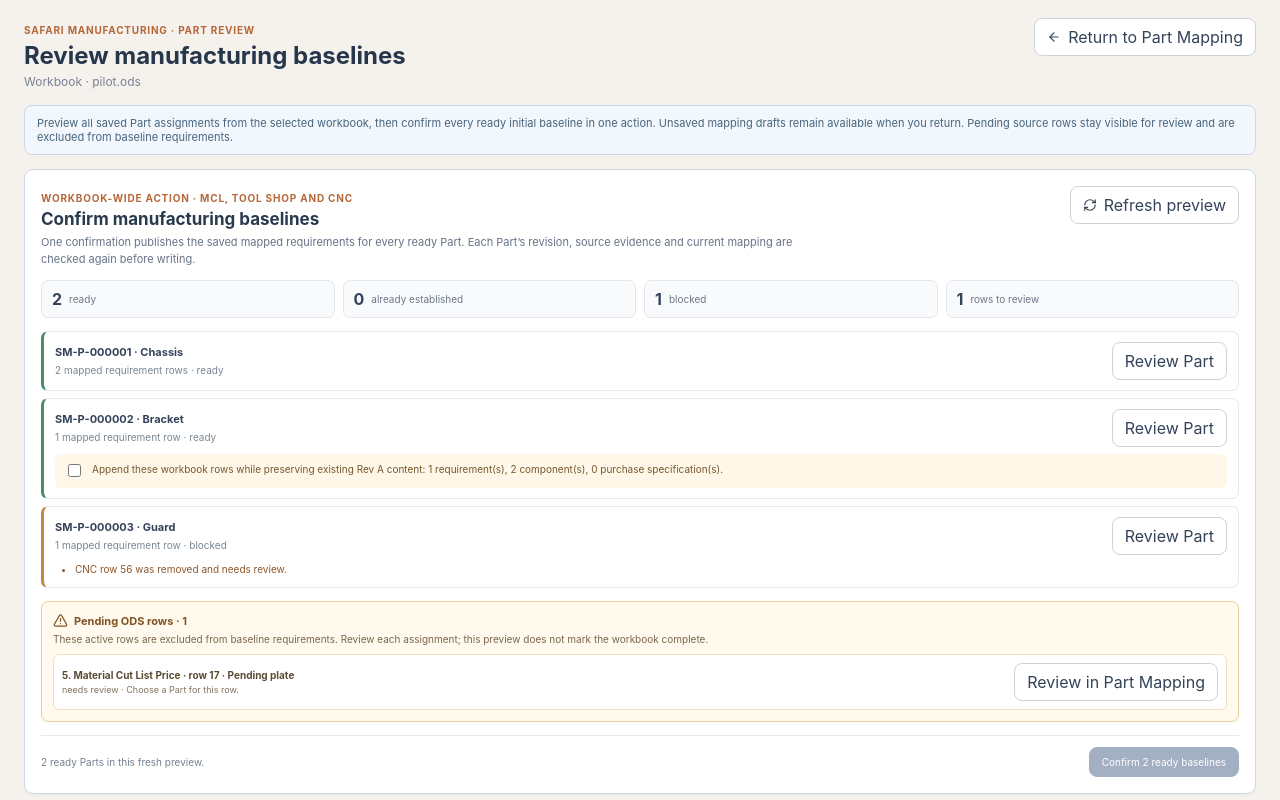
drops a stale bulk attempt and refreshes evidence before allowing another confirmation
Expected: the heading "Confirm manufacturing baselines" is shown, [41,209,319,229]
Click the checkbox labelled "Append these workbook rows while preserving existing Rev A content" at x=74, y=470, box [68,464,81,477]
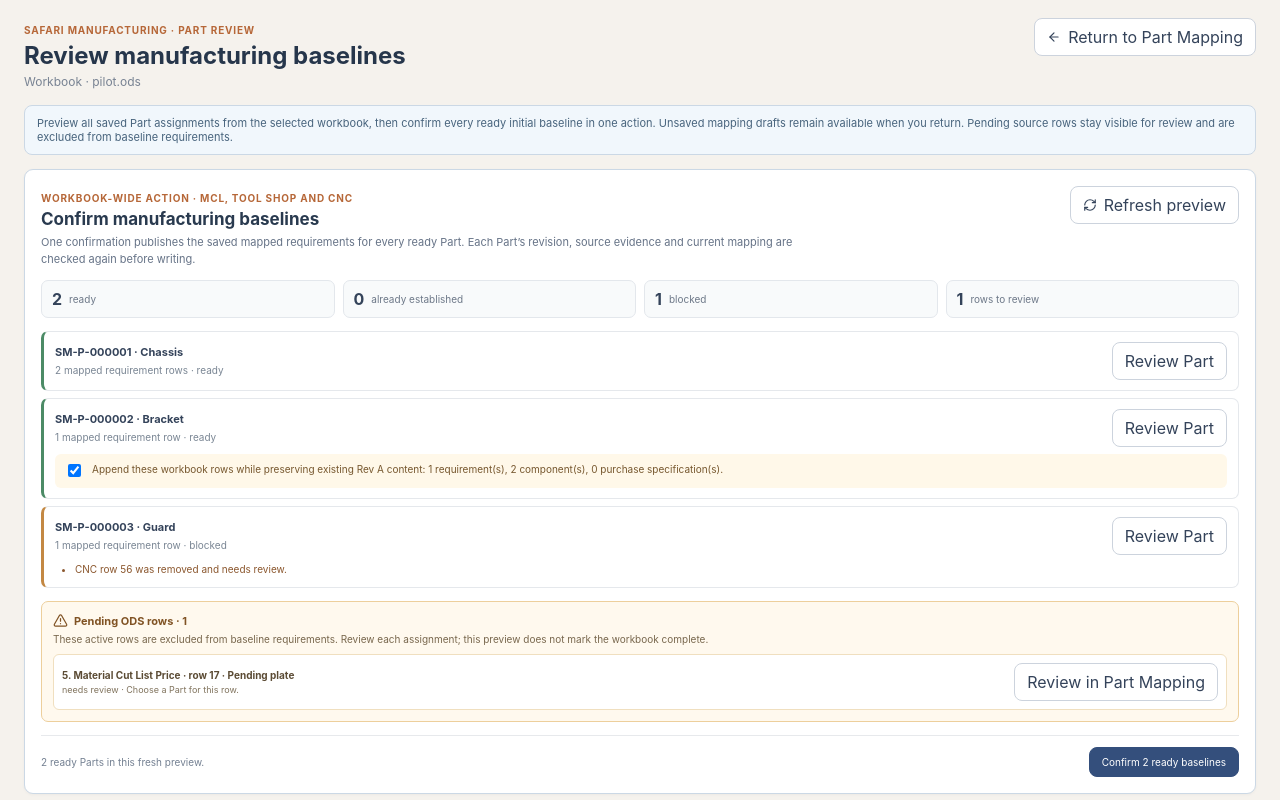
Click the button "Confirm 2 ready baselines" at x=1164, y=762, box [1089,746,1239,776]
(page scrolled)
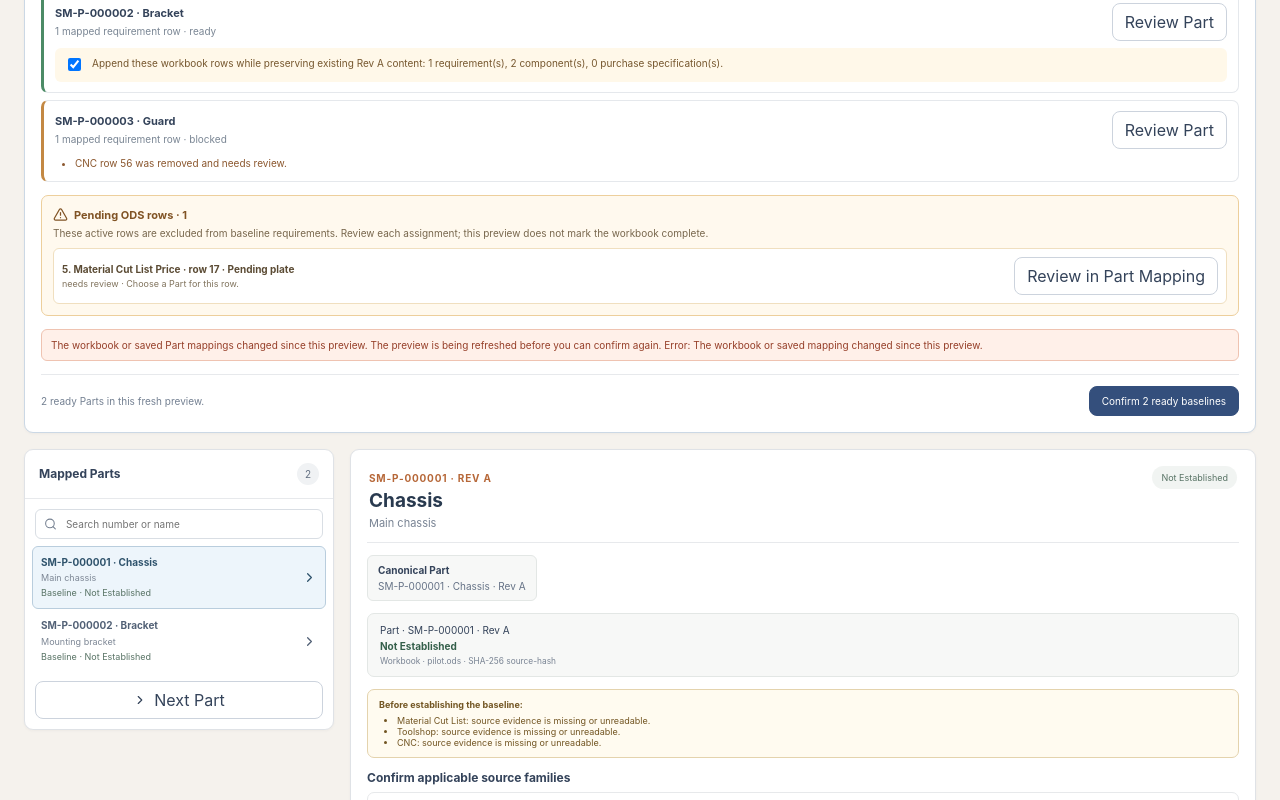
Expected: the button "Confirm 2 ready baselines" is shown, [1089,386,1239,416]
Now the 1st message shows "preview is being refreshed", box [51,338,983,350]
